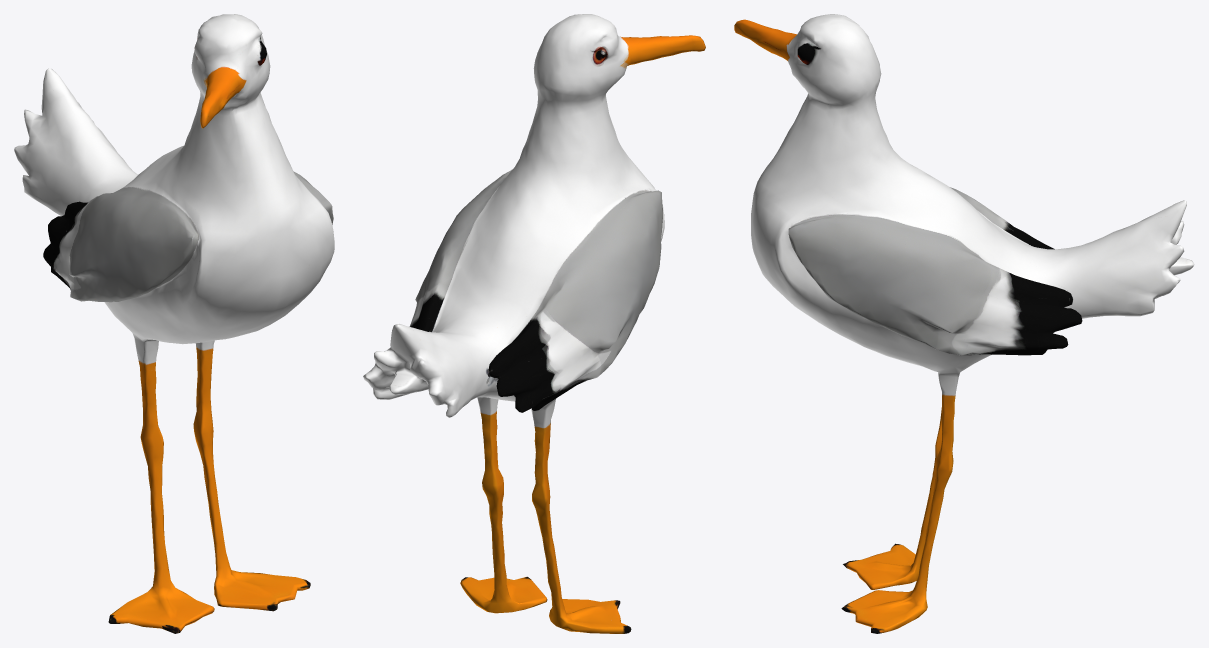
The model's file is seagull.glb.
The picture shows the model from 3 angles, left to right: view 1: azimuth 30°, elevation 25°; view 2: azimuth 150°, elevation 25°; view 3: azimuth 270°, elevation 25°; orthographic projection. The views are drawn at different scales.
Size of the model in its own units: 0.6849 by 1.91 by 1.4.
Materials: 1 (1 with a texture image).
